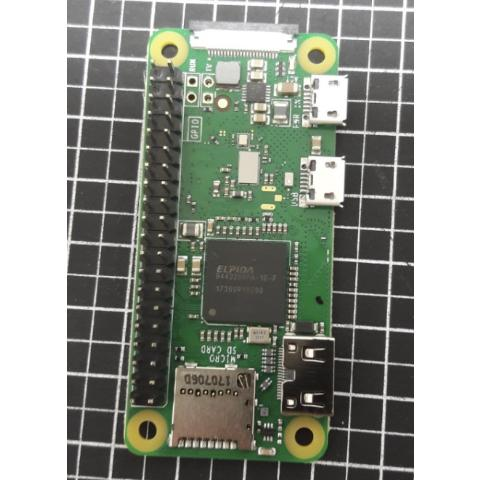Raspberry-Pi-Zero-WH: (122, 19, 348, 463)
